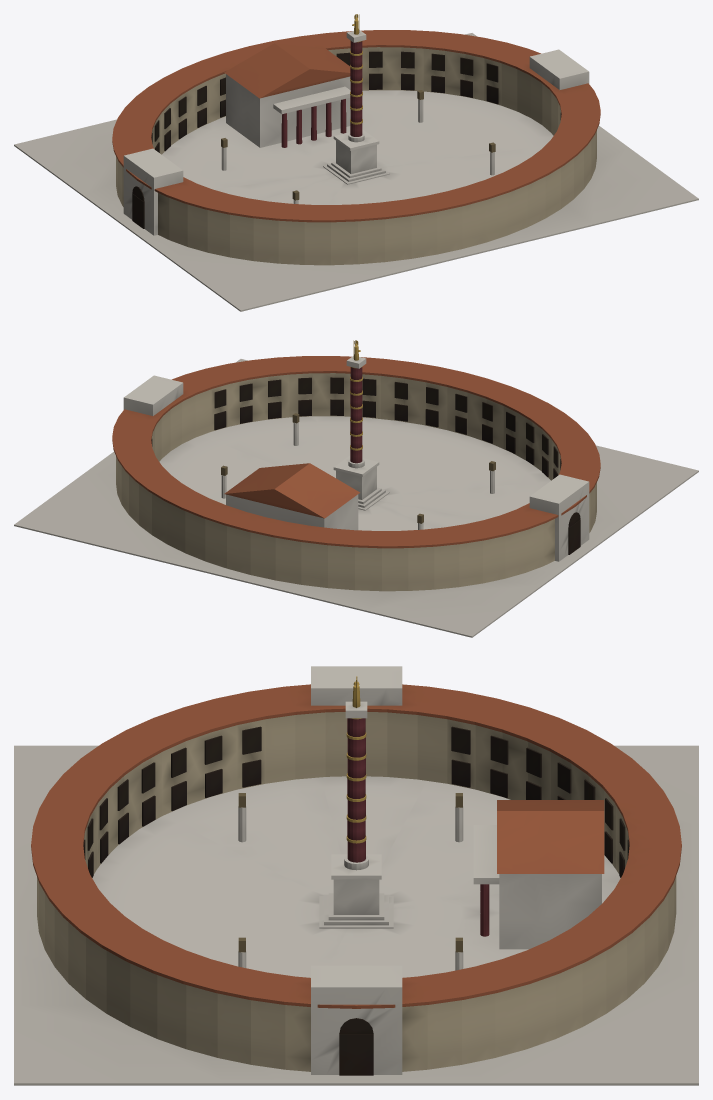
The model's file is forum-of-constantine.glb.
3 views of the same model, one above another, from view 1: azimuth 30°, elevation 25°; view 2: azimuth 150°, elevation 25°; view 3: azimuth 270°, elevation 25° (orthographic). The views are drawn at different scales.
Parts seen in each view (by area): view 1: p0_colonnades, p1_arches, p2_column; view 2: p0_colonnades, p1_arches, p2_column; view 3: p0_colonnades, p1_arches, p2_column.
Part boxes in pixels (bbox=[...]): p0_colonnades: bbox=[14, 30, 698, 311]; p1_arches: bbox=[123, 43, 589, 235]; p2_column: bbox=[323, 14, 389, 184]; p0_colonnades: bbox=[14, 356, 698, 637]; p1_arches: bbox=[123, 375, 589, 561]; p2_column: bbox=[333, 340, 389, 510]; p0_colonnades: bbox=[14, 684, 698, 1085]; p1_arches: bbox=[238, 666, 604, 1075]; p2_column: bbox=[319, 676, 393, 928].
Bounding box in the file's own units: 140 × 46.35 × 120.
